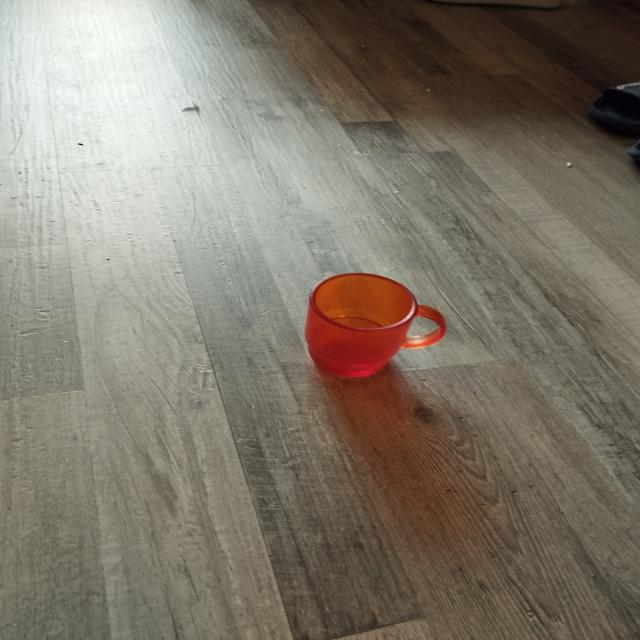Cup: (280, 258, 472, 399)
